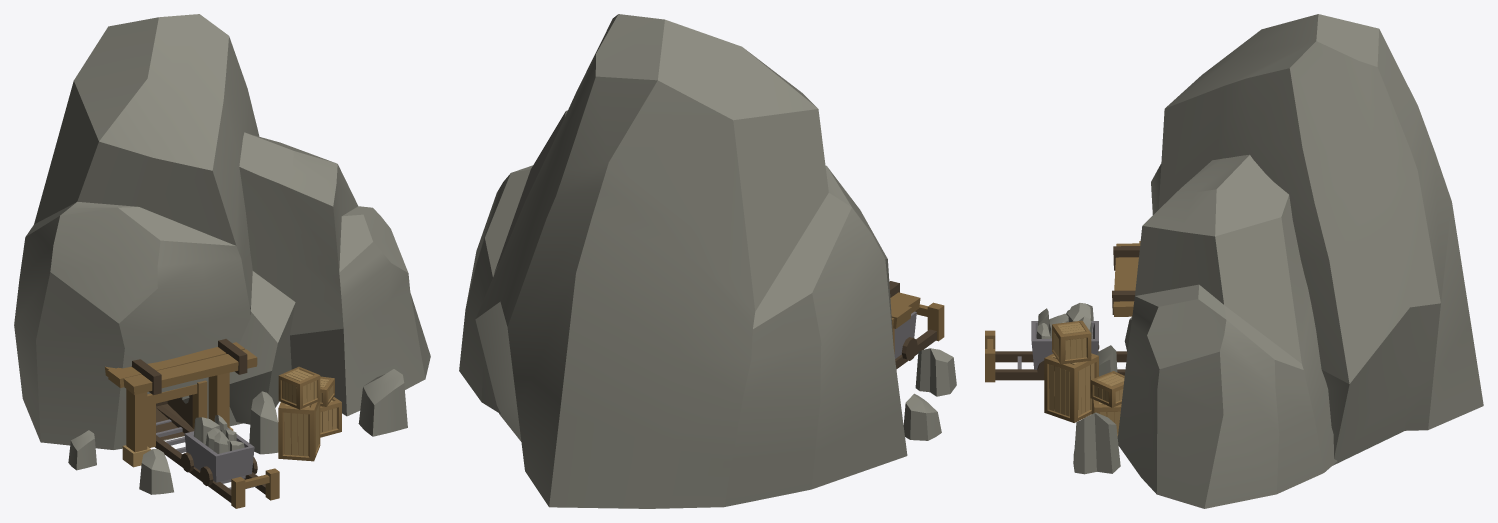
The model's file is Mine.glb.
The picture shows the model from 3 angles, left to right: view 1: azimuth 30°, elevation 25°; view 2: azimuth 150°, elevation 25°; view 3: azimuth 270°, elevation 25°; orthographic projection. The views are drawn at different scales.
Visible parts, largest first — view 1: Mine; view 2: Mine; view 3: Mine.
Boxes of the visible parts, x1,y1,x2,y2 form: Mine: (14,14,430,508); Mine: (459,14,956,508); Mine: (985,14,1483,508).
Bounding box in the file's own units: 1.28 × 1.17 × 1.36.
1 material, 1 textured.
